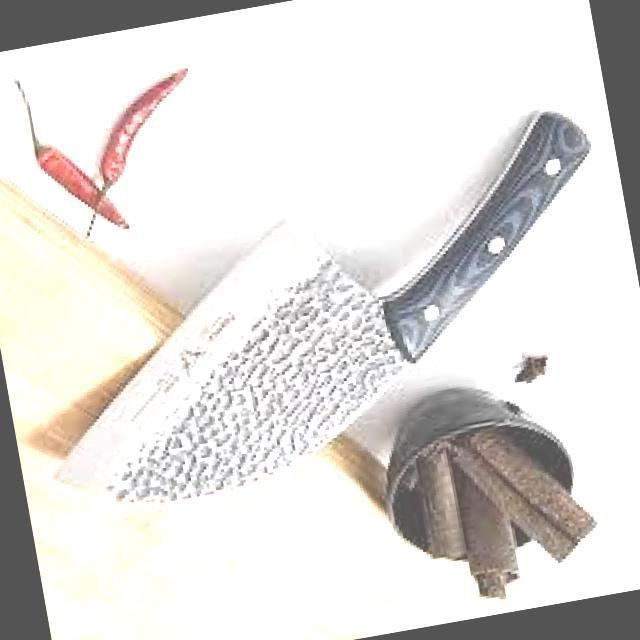Knife: (0, 101, 639, 535)
